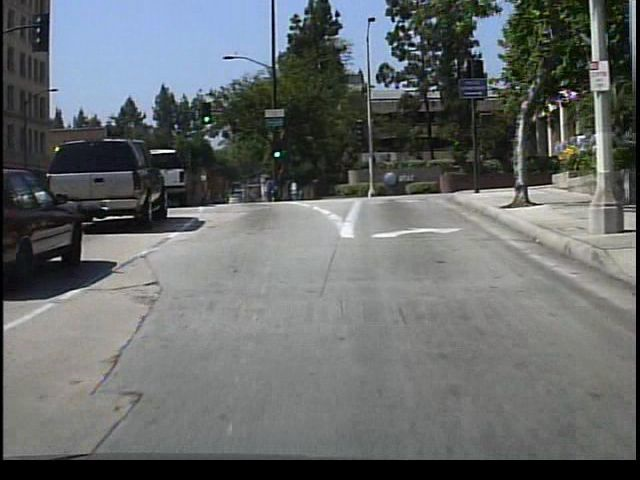person: (260, 170, 280, 205), (287, 176, 303, 203)
